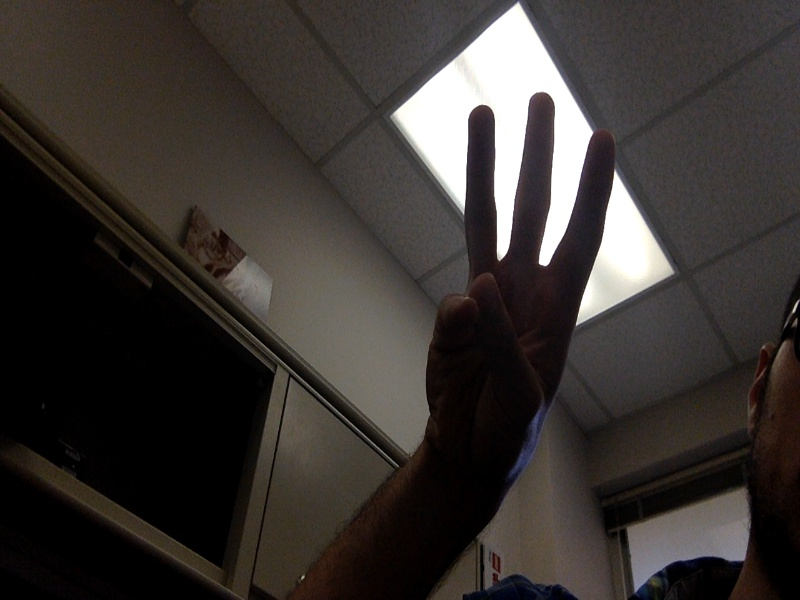3-hand: (430, 92, 615, 450)
